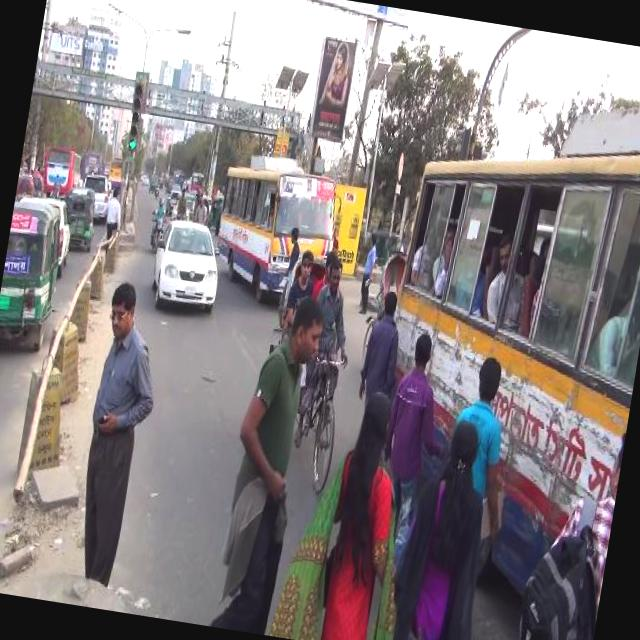bus: (351, 63, 640, 617), (206, 146, 350, 314), (37, 140, 84, 197), (104, 152, 125, 192), (80, 148, 105, 177)
car: (143, 212, 231, 318), (141, 174, 150, 186)
motorcycle: (248, 244, 362, 500), (0, 196, 69, 363), (356, 241, 406, 374), (57, 182, 100, 262), (366, 226, 404, 284), (144, 194, 170, 254), (14, 168, 39, 208), (190, 192, 212, 226), (207, 194, 224, 234), (29, 168, 47, 196), (163, 176, 173, 194), (148, 174, 156, 191)
truck: (78, 173, 114, 220), (171, 186, 194, 222)
